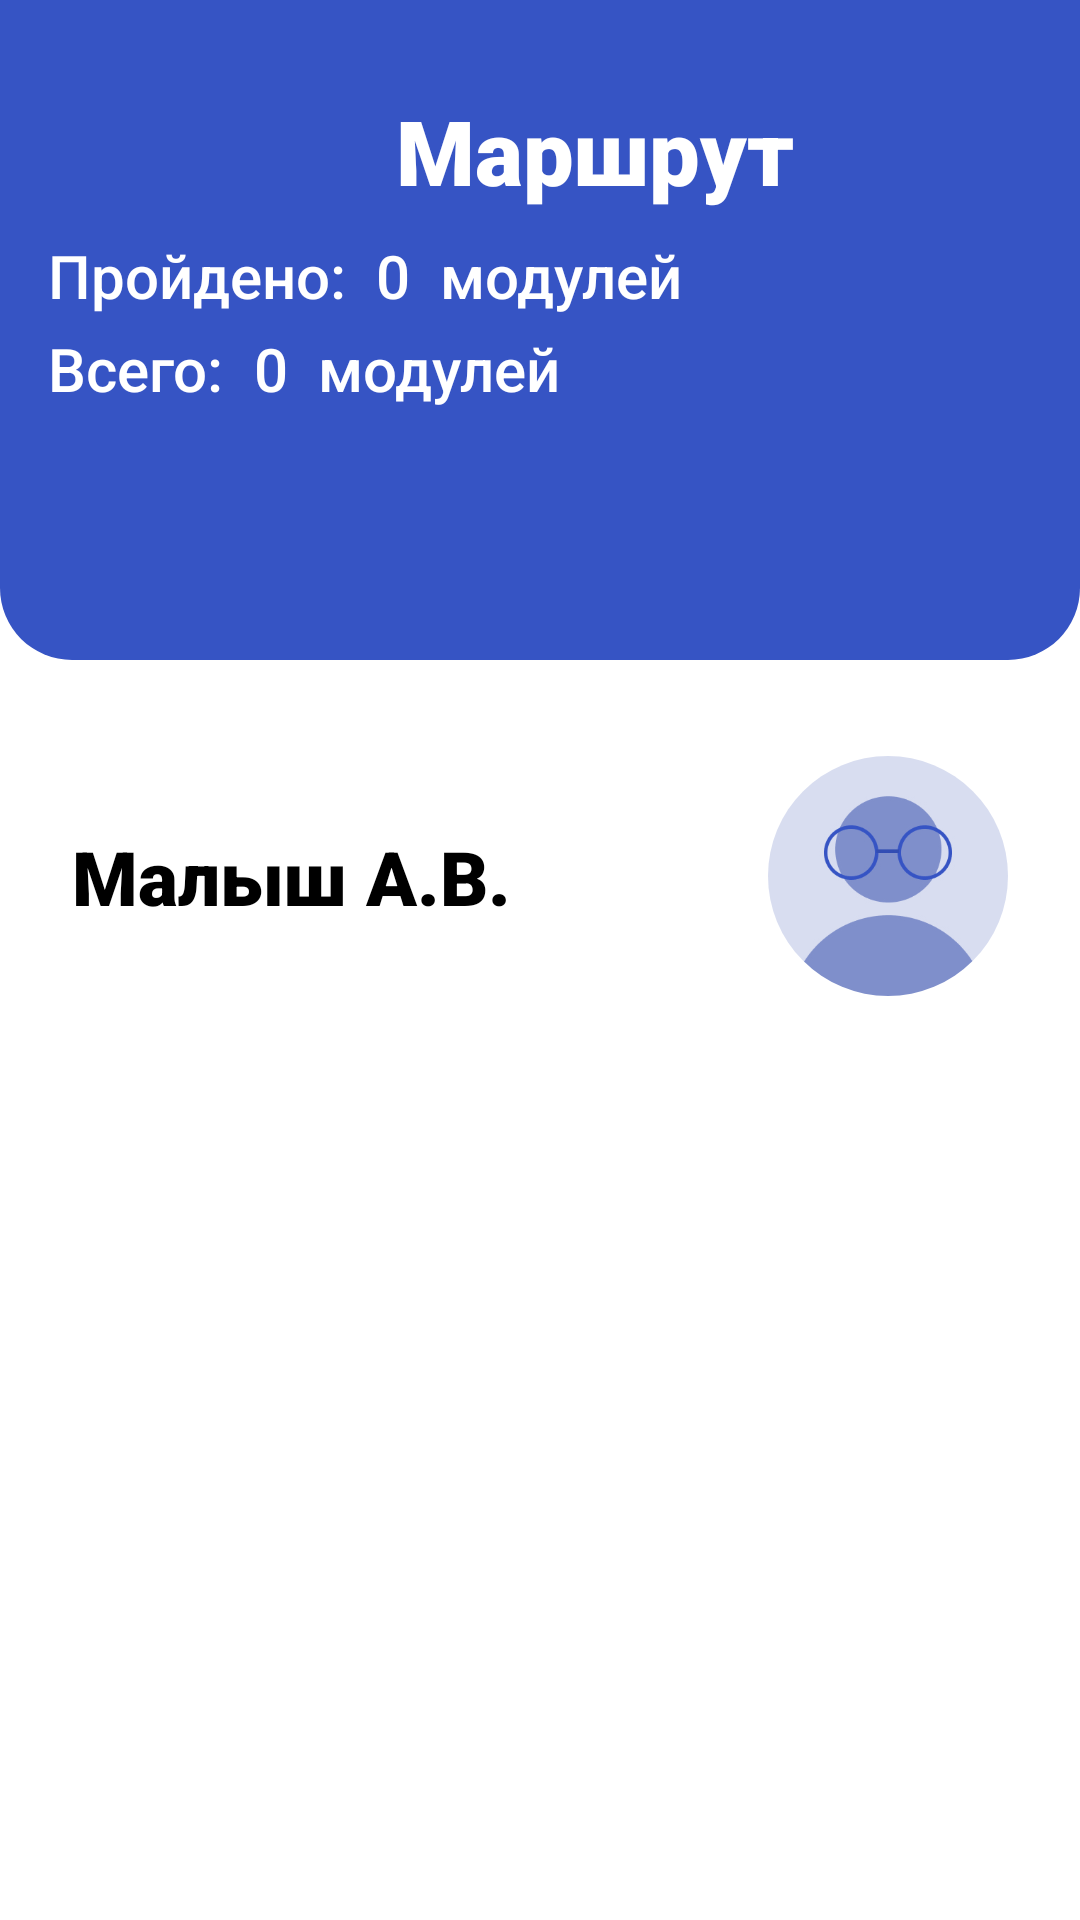

Point at icon controls on the screen. Image size 1080 × 1920, points as (x=x, y=y).
userphoto: (x=888, y=876)
